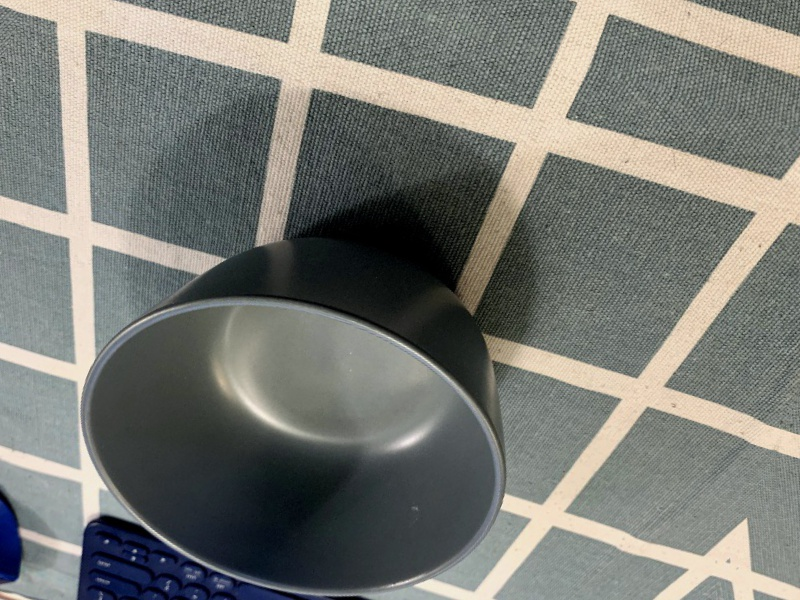bowl_big: (16, 172, 592, 599)
